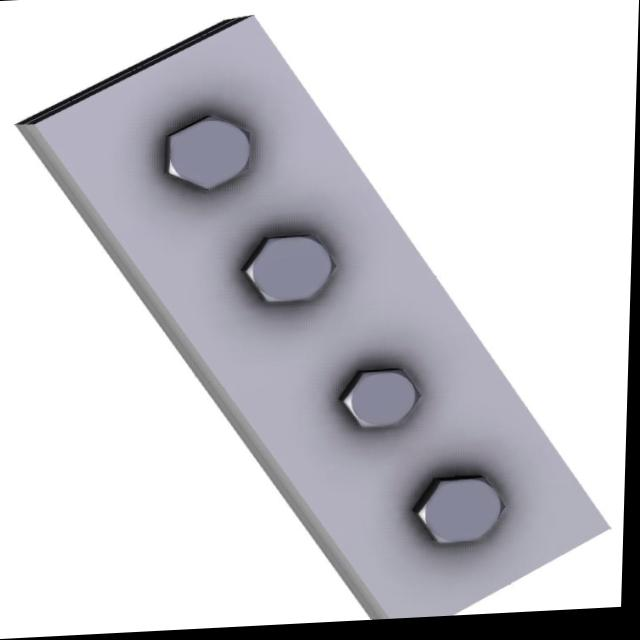Regular bolt: (163, 115, 256, 195), (241, 234, 341, 306), (417, 480, 506, 548), (339, 370, 426, 435)
